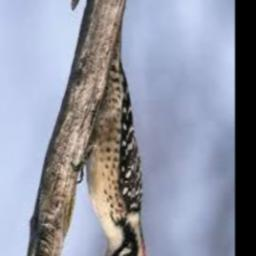Woodpecker: (72, 24, 148, 256)
